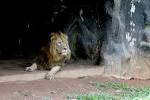lion: (25, 28, 72, 74)
